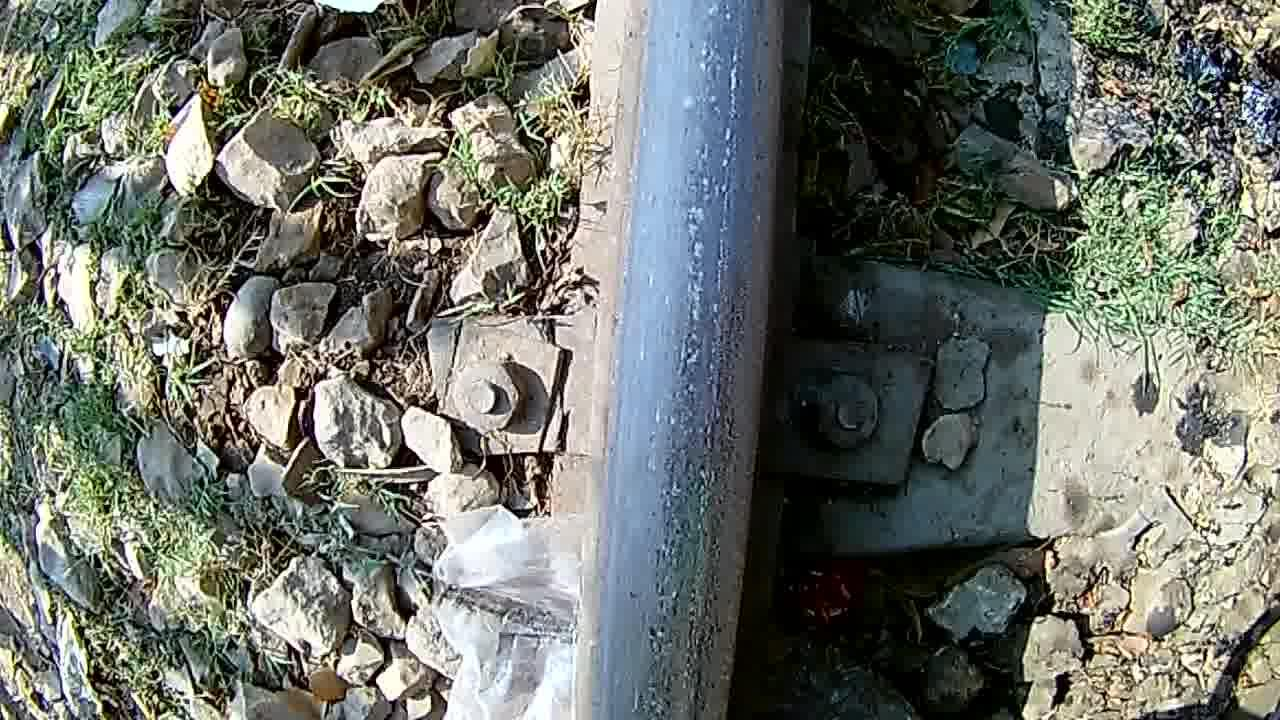clip_missing: (630, 0, 764, 719)
